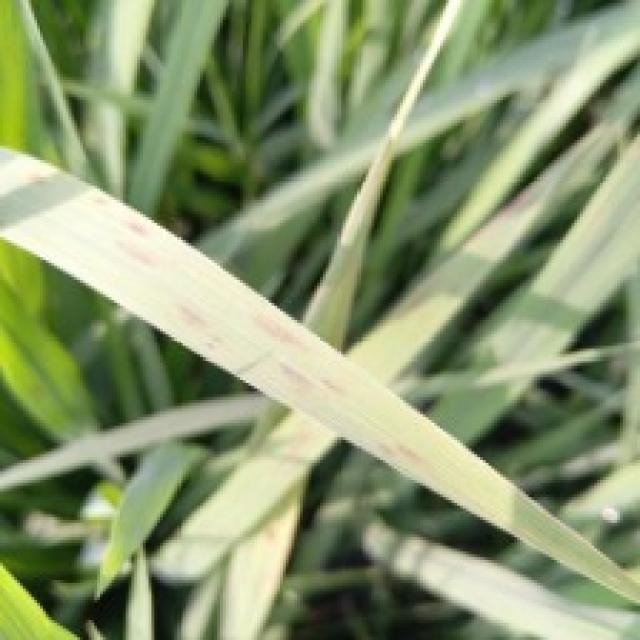Rice___Brown_Spot: (0, 143, 637, 604)
